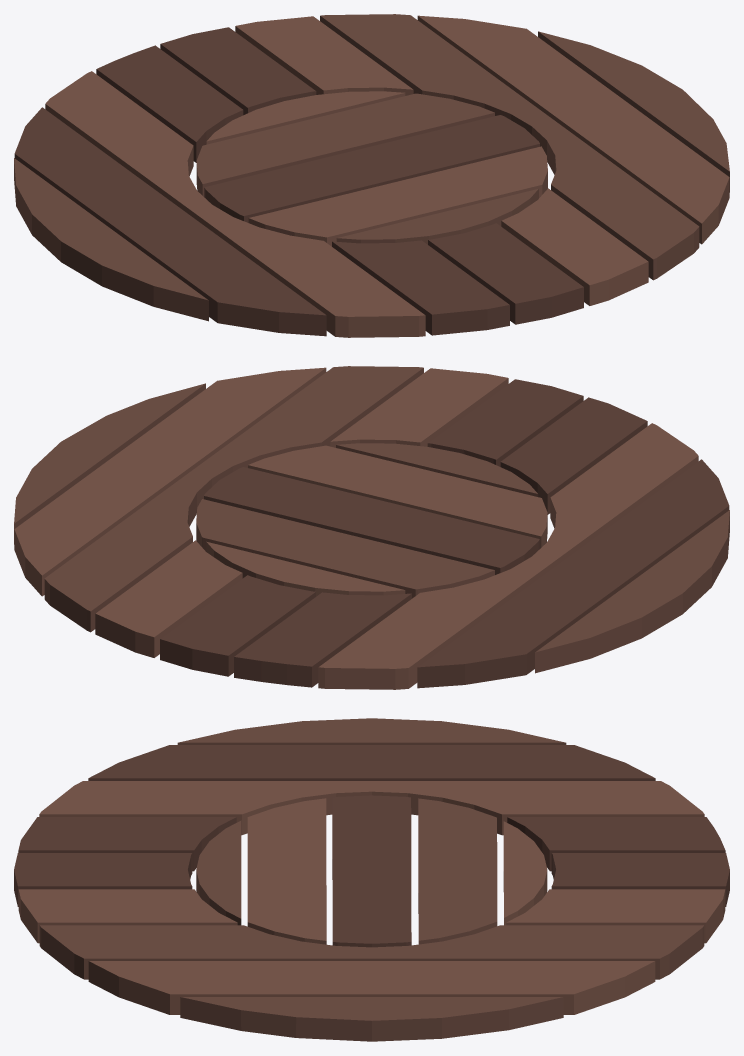
Rendered from CircularBoat.fbx.
The picture shows the model from 3 angles, top to bottom: view 1: azimuth 30°, elevation 25°; view 2: azimuth 150°, elevation 25°; view 3: azimuth 270°, elevation 25°; orthographic projection.
Visible parts, largest first — view 1: Outisde, Center; view 2: Outisde, Center; view 3: Outisde, Center.
Boxes of the visible parts, left/top/right/bottom form: Outisde: left=14, top=14, right=729, bottom=337; Center: left=196, top=91, right=547, bottom=246; Outisde: left=14, top=366, right=729, bottom=689; Center: left=196, top=443, right=547, bottom=598; Outisde: left=14, top=718, right=729, bottom=1041; Center: left=196, top=795, right=547, bottom=947.
Bounding box in the file's own units: 677 × 21.79 × 677.
